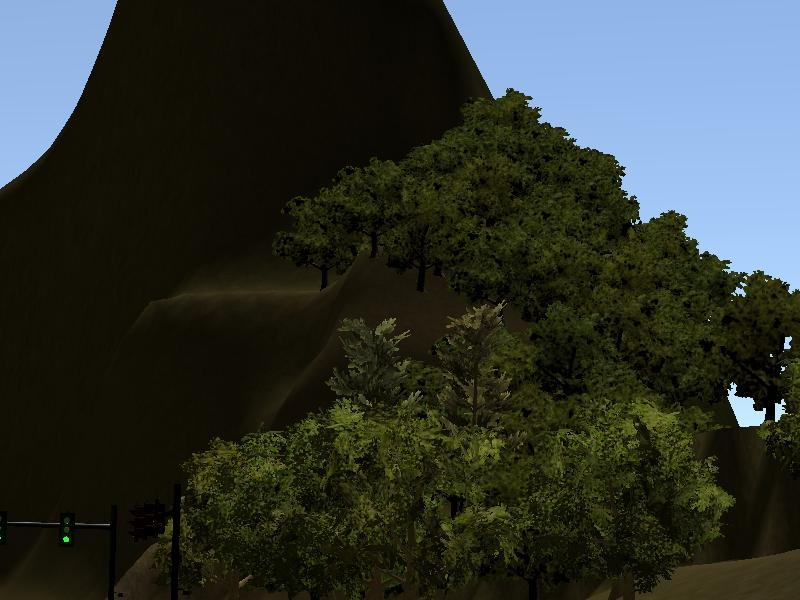GREEN: (58, 509, 73, 549)
